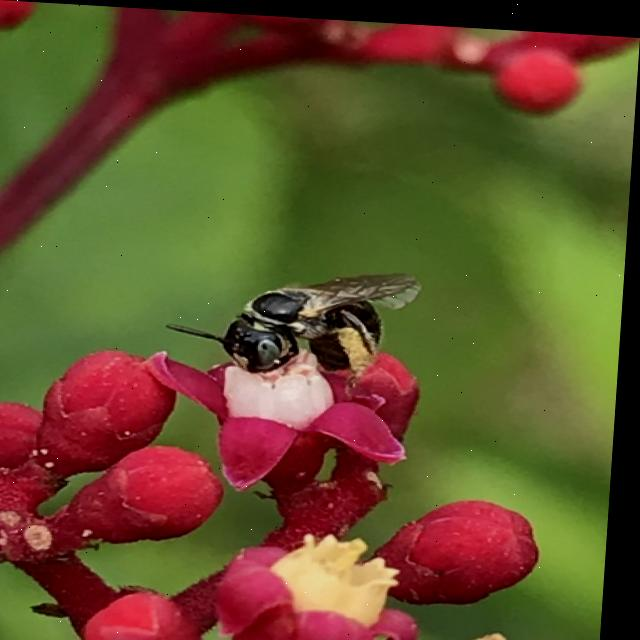Braunsapis: (174, 249, 436, 402)
